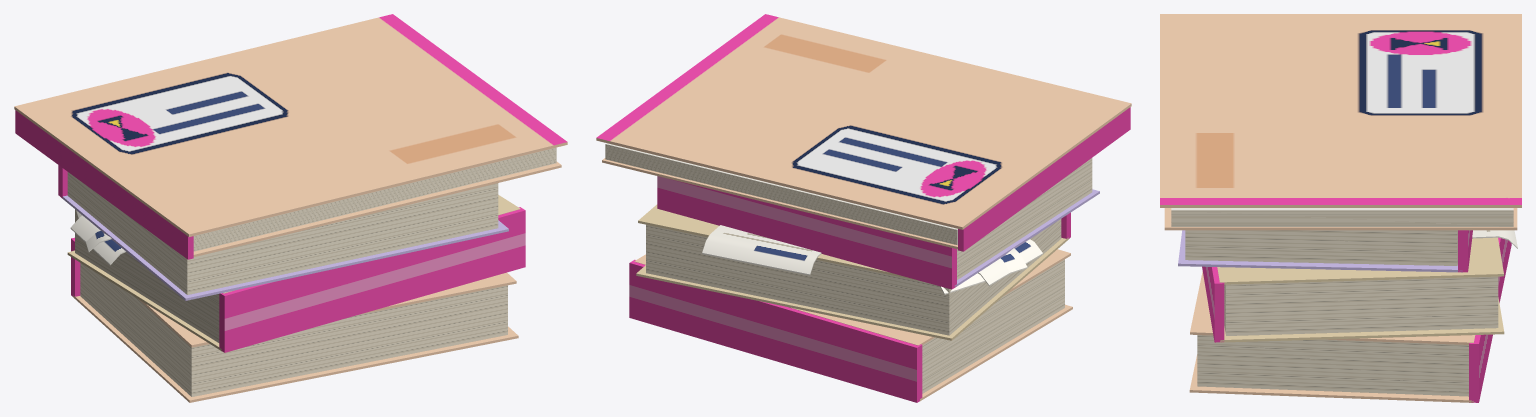
File: bureau_loose_files_lod1.glb
3 renders of one model, left to right at view 1: azimuth 30°, elevation 25°; view 2: azimuth 150°, elevation 25°; view 3: azimuth 270°, elevation 25°, orthographic. The views are drawn at different scales.
Visible parts, largest first — view 1: bureau_loose_files_LOD1; view 2: bureau_loose_files_LOD1; view 3: bureau_loose_files_LOD1.
Part boxes in pixels (<box>): bureau_loose_files_LOD1: <box>14,14,567,402</box>; bureau_loose_files_LOD1: <box>596,14,1131,402</box>; bureau_loose_files_LOD1: <box>1160,14,1521,402</box>.
Size of the model in its own units: 10 by 5 by 8.
1 material, 1 textured.
